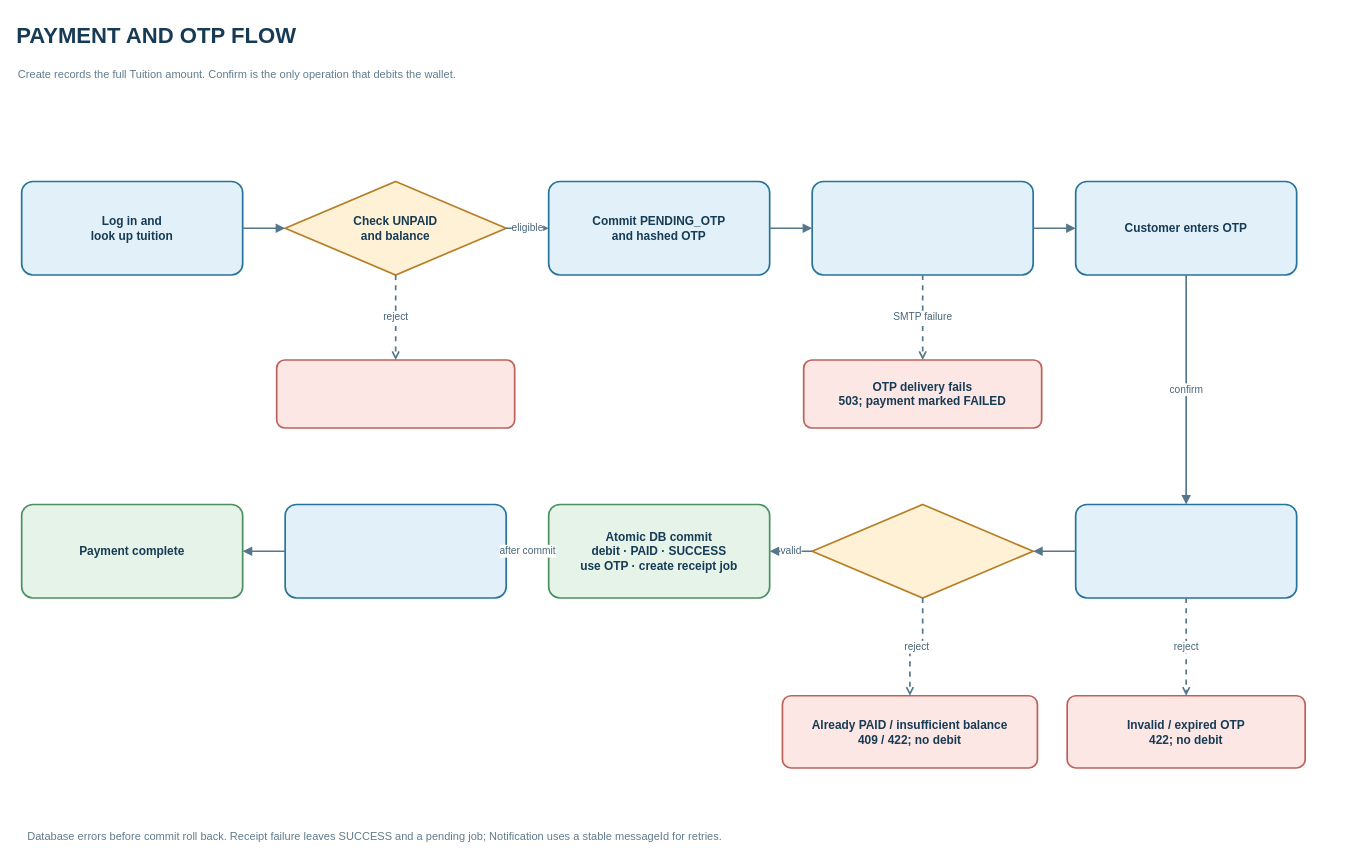
Some shapes in this 1360 by 867 pixel diagram are drawn without their labels. Here are the shapes that lost their labels. From the top down, the centre of each, then its label:
the point at 922,227: Send OTP email TTL 5 minutes
the point at 395,393: Already PAID or insufficient balance 409 / 422; no payment created
the point at 395,550: Send receipt email retry every 30 seconds
the point at 922,550: Lock wallet + tuition recheck status / balance
the point at 1185,550: Lock payment + OTP validate single-use code
